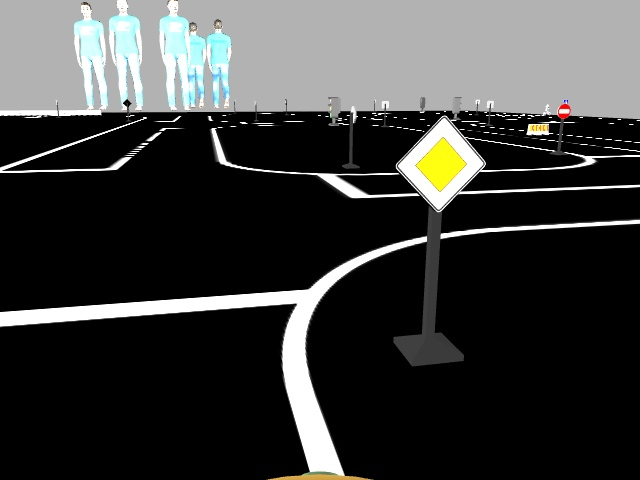ClosedRoadStand: (527, 123, 551, 136)
NoEntry: (554, 104, 572, 121)
Priority: (393, 115, 487, 214)
